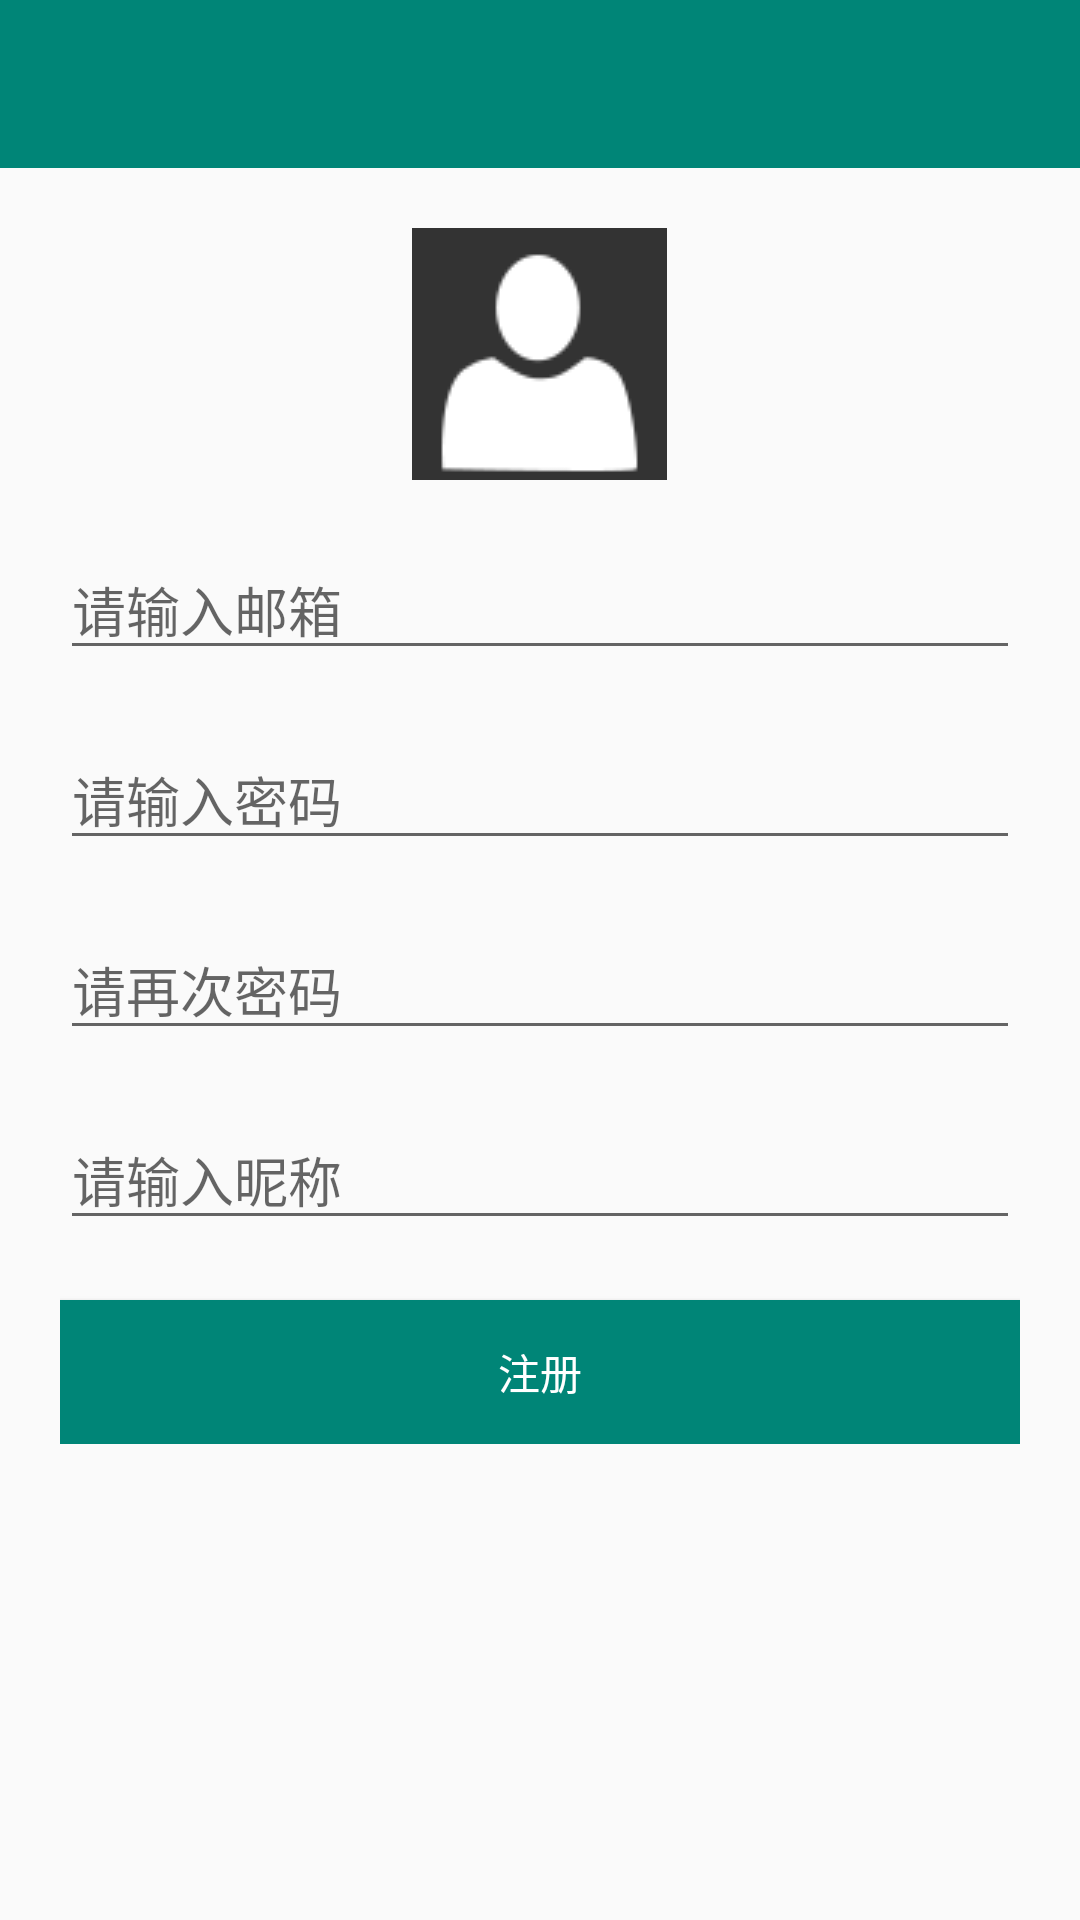

Named icons in this screenshot (1080x1920) and their centers, (x=x, y=y):
faceimage: (x=539, y=354)
